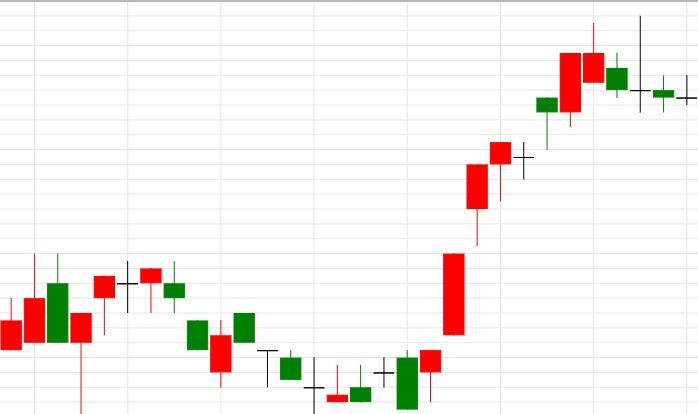hanging_man_fall: (419, 142, 511, 401)
